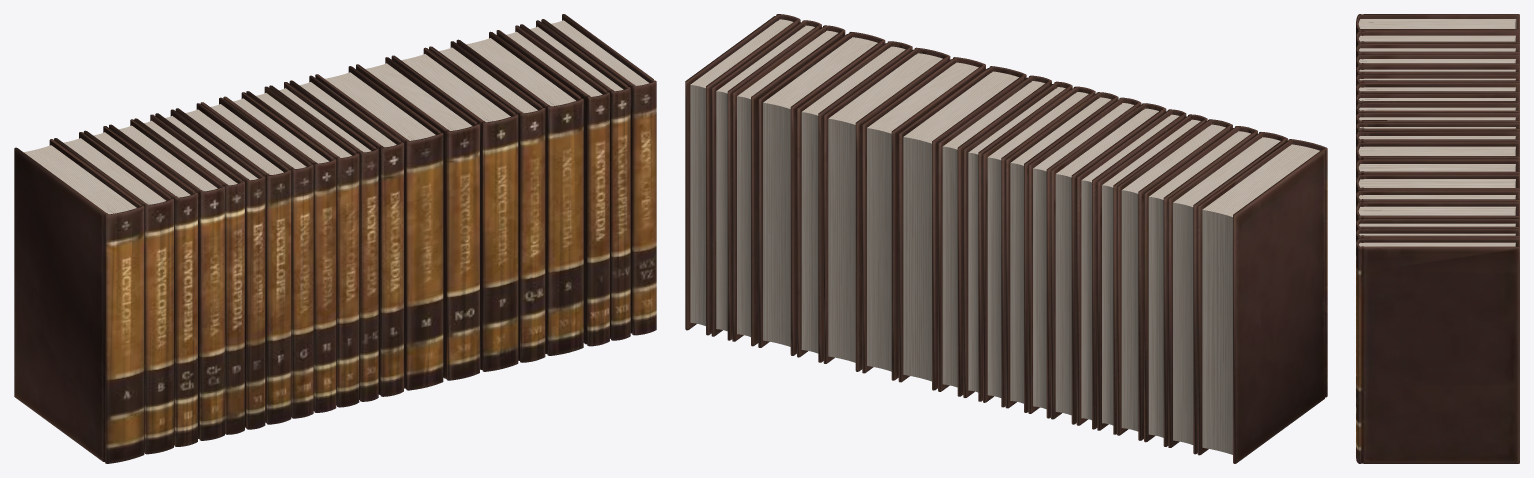
The model's file is book_encyclopedia_set_01.glb.
3 renders of one model, left to right at view 1: azimuth 30°, elevation 25°; view 2: azimuth 150°, elevation 25°; view 3: azimuth 270°, elevation 25°, orthographic. The views are drawn at different scales.
Parts seen in each view (by area): view 1: book_encyclopedia_set_01_book01; view 2: book_encyclopedia_set_01_book01; view 3: book_encyclopedia_set_01_book01.
Part boxes in pixels (x1,y1,x2,y2): book_encyclopedia_set_01_book01: [14, 14, 656, 463]; book_encyclopedia_set_01_book01: [685, 14, 1327, 463]; book_encyclopedia_set_01_book01: [1356, 14, 1519, 463].
Bounding box in the file's own units: 0.5513 × 0.2374 × 0.1631.
Materials: 2 (2 with a texture image).
